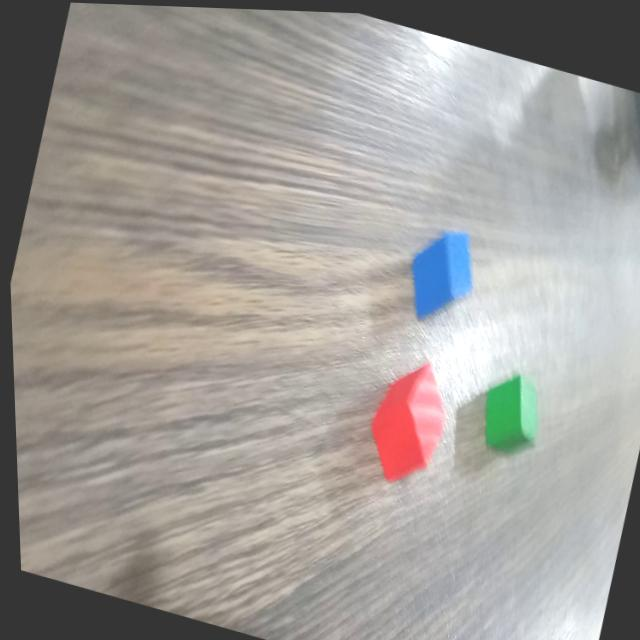cube: (350, 342, 460, 494), (390, 212, 486, 334), (468, 357, 550, 459)
